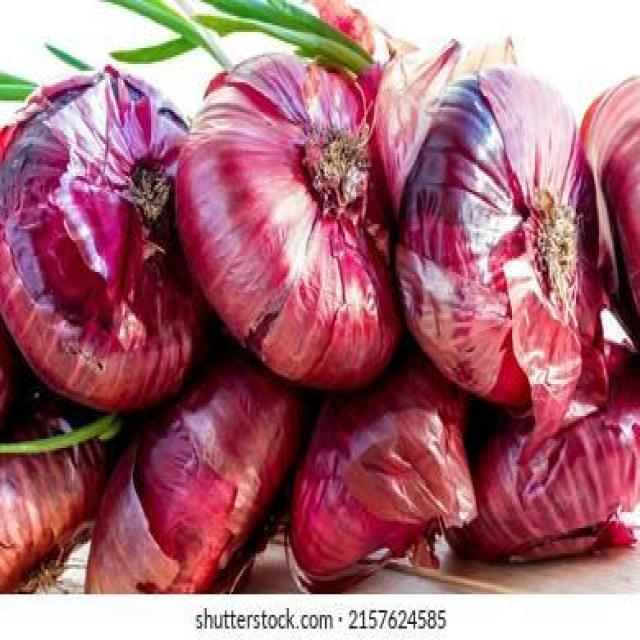Onion: (174, 52, 402, 396), (0, 61, 205, 414), (400, 71, 608, 407), (85, 361, 314, 599), (284, 361, 476, 594), (446, 375, 640, 560), (0, 416, 113, 594), (103, 0, 378, 69), (582, 75, 640, 347), (0, 39, 94, 105), (0, 414, 120, 455)
